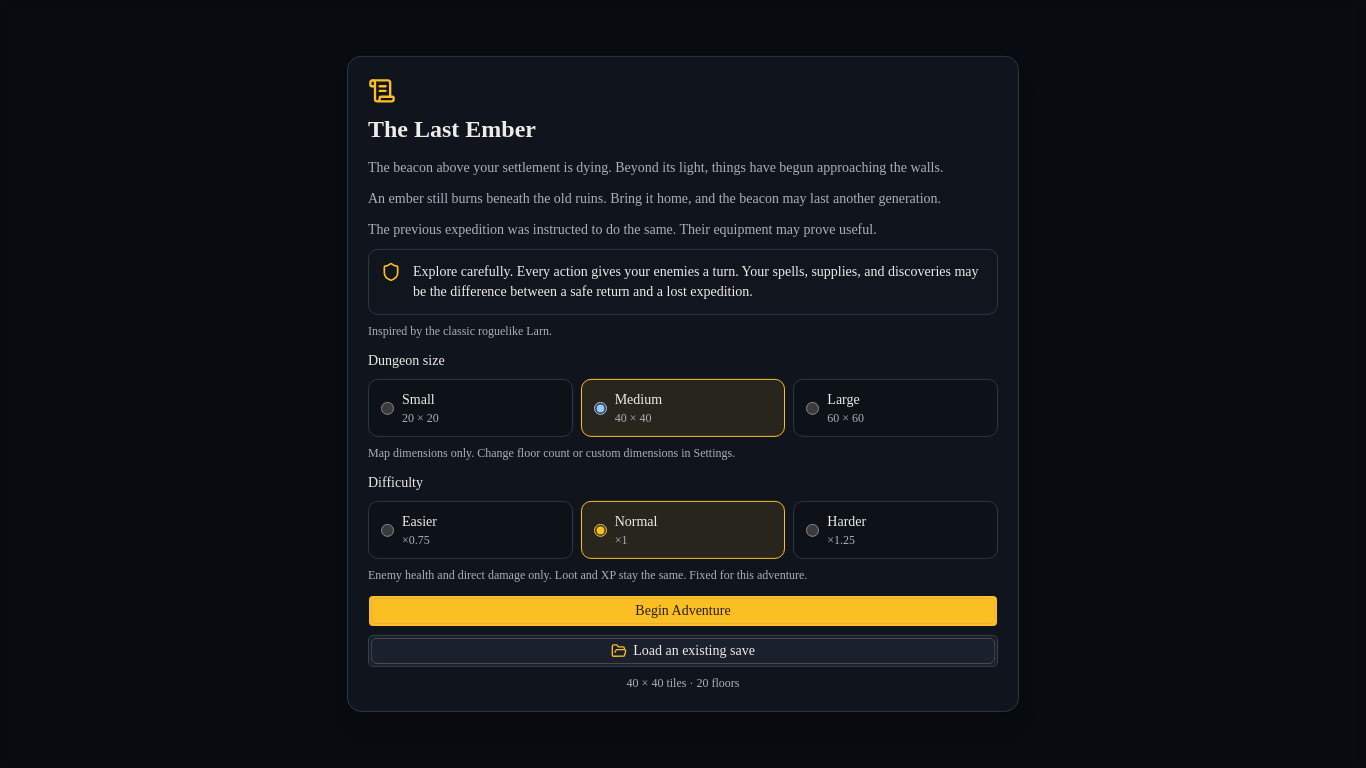
Test: offers only loading and import before starting when the browser slot is empty
Click the button "Load an existing save" at (683, 651), box [368,635,998,667]
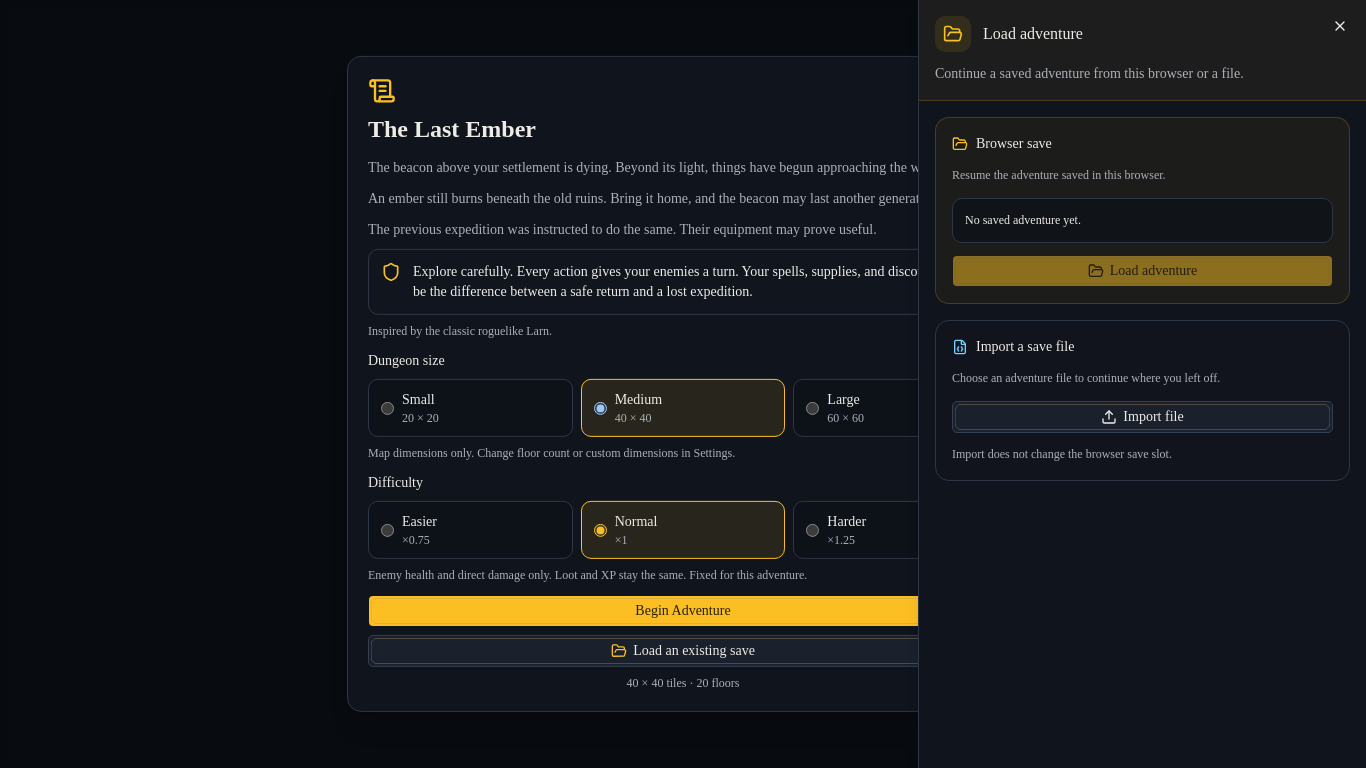
Now the dialog "Load adventure" is shown, box [918,0,1365,767]
Now the button "Load adventure" is disabled, box [952,255,1333,287]
Now the button "Import file" is enabled, box [952,400,1333,432]
